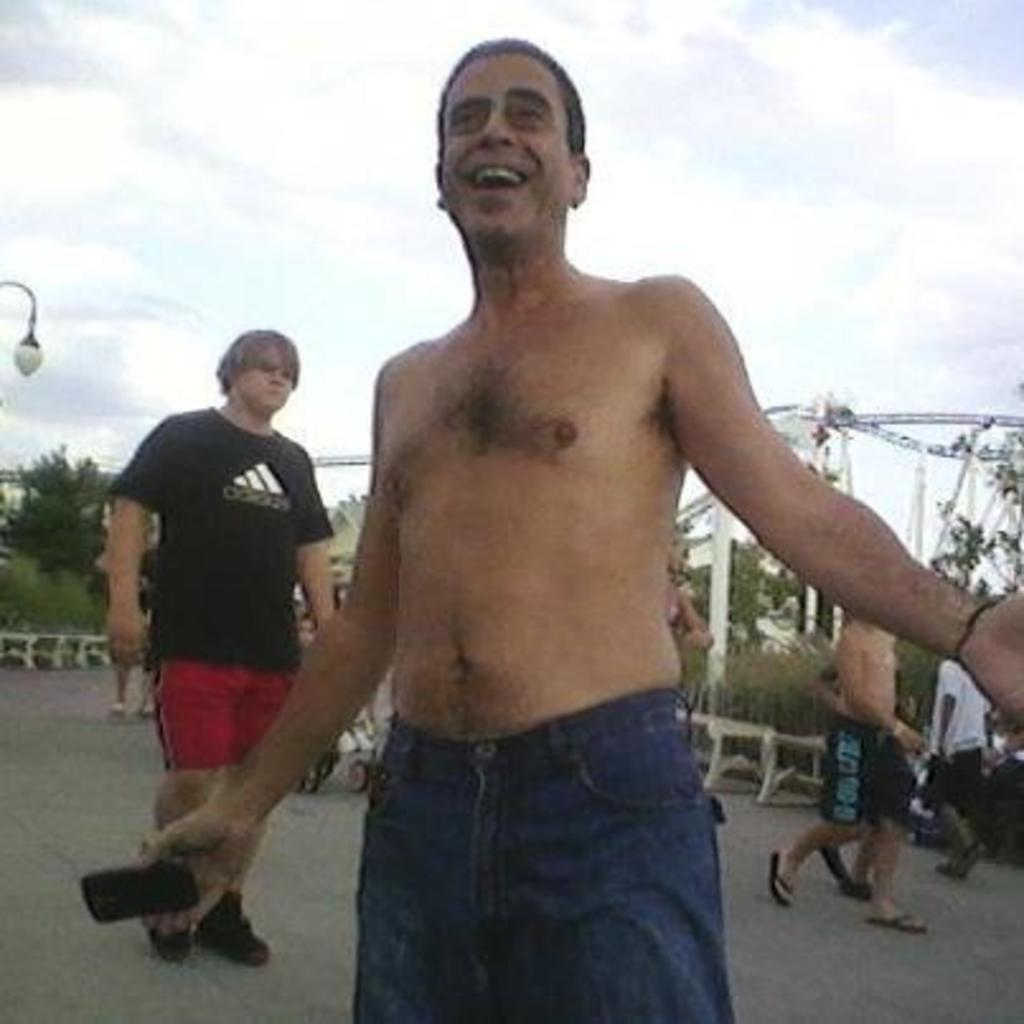Human_hand: (137, 822, 252, 932), (959, 598, 1021, 728), (101, 607, 147, 668), (897, 726, 925, 750), (937, 746, 952, 762)
